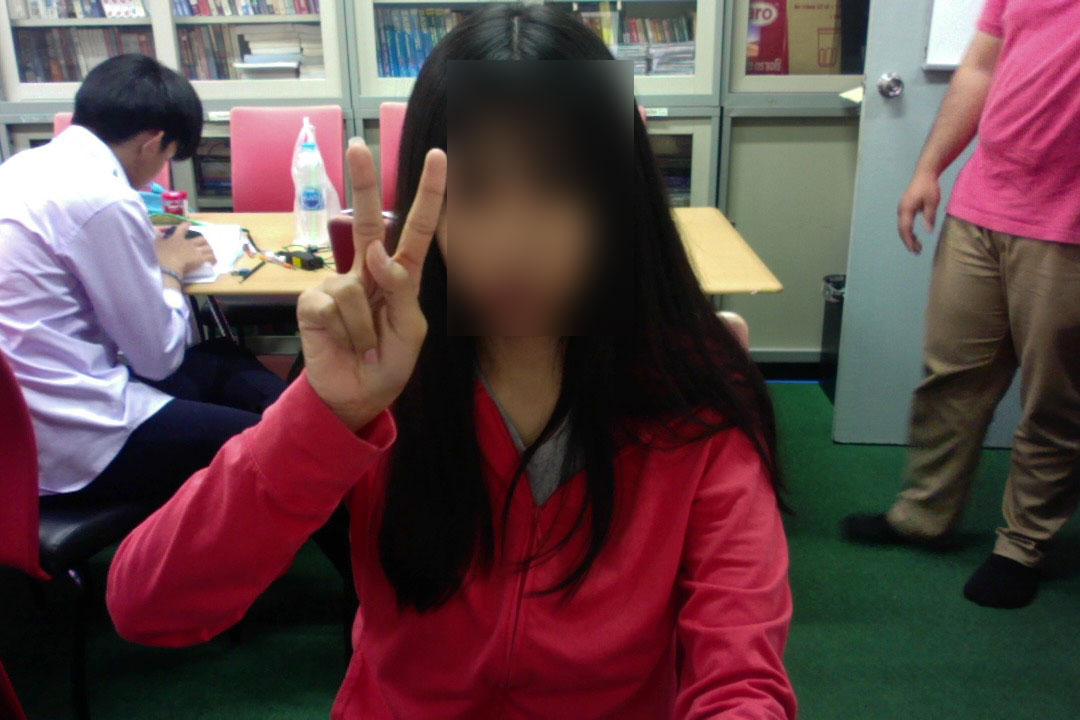ko: (256, 135, 456, 423)
